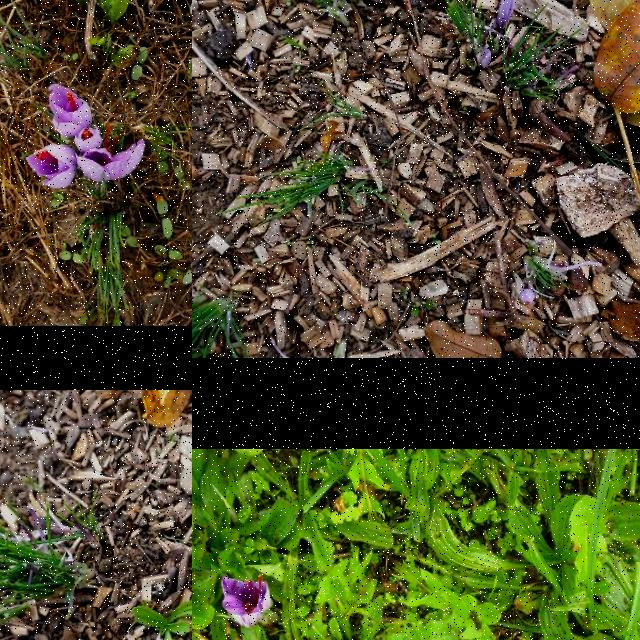flower: (77, 125, 145, 183), (220, 575, 272, 629), (49, 84, 93, 138), (26, 144, 78, 188), (73, 126, 103, 152), (495, 0, 516, 33), (520, 289, 536, 307)
